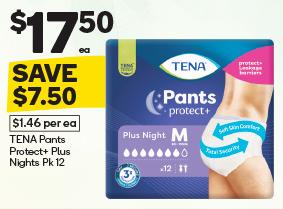description_block: (4, 132, 72, 169)
price_main: (6, 2, 115, 56)
product_image_block: (97, 33, 280, 201)
promo_text_block: (4, 59, 109, 113)
unit_price_block: (6, 113, 82, 134)
